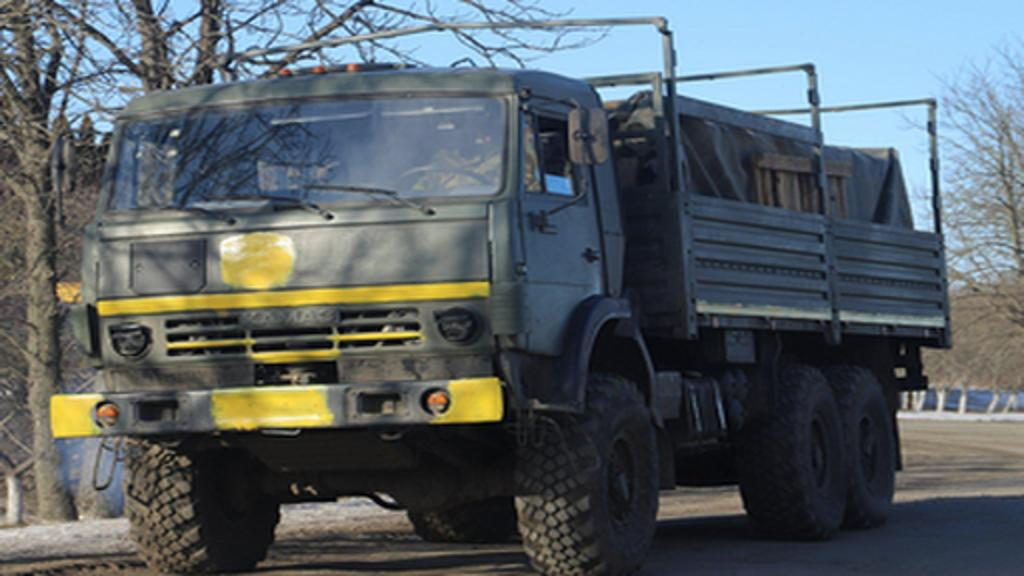TRUCK: (42, 50, 938, 574)
